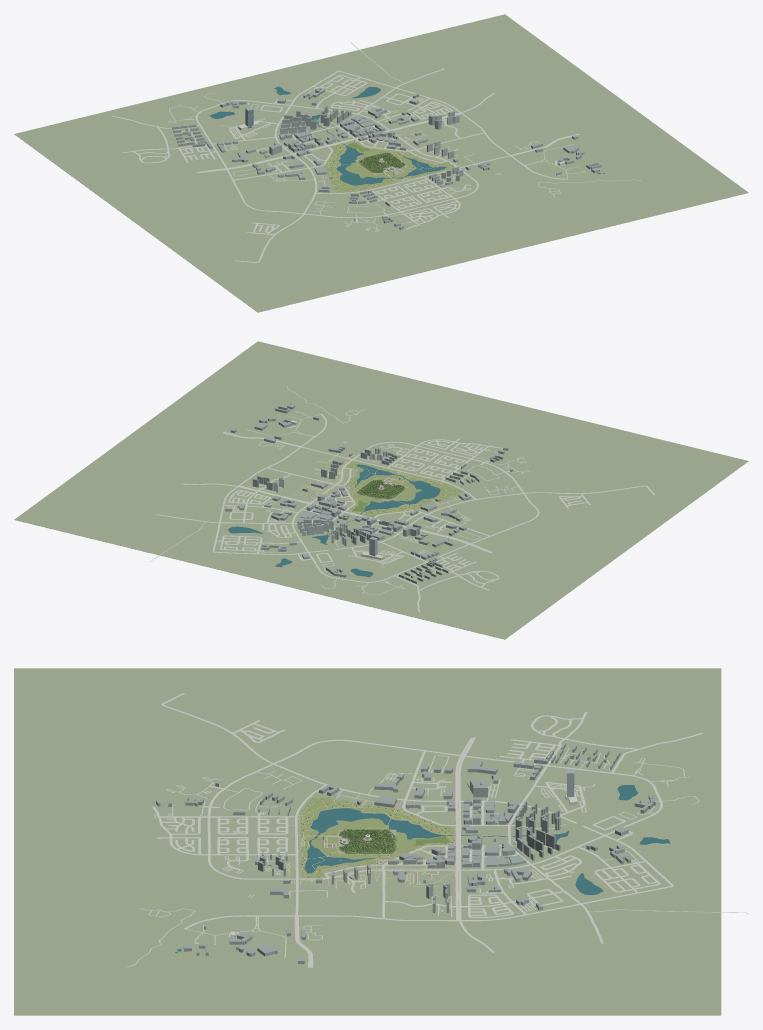
Rendered from bitgaram-overview.glb.
The picture shows the model from 3 angles, top to bottom: view 1: azimuth 30°, elevation 25°; view 2: azimuth 150°, elevation 25°; view 3: azimuth 270°, elevation 25°; orthographic projection. The views are drawn at different scales.
Visible parts, largest first — view 1: ground, surrounding_park_lawn, surrounding_mapped_paths, lake_334275809, estimated_hill; view 2: ground, surrounding_park_lawn, surrounding_mapped_paths, lake_334275809; view 3: ground, surrounding_park_lawn, surrounding_mapped_paths, lake_334275809, estimated_hill, lake_534052766.
Boxes of the visible parts, bbox=[...] form: ground: bbox=[14, 14, 748, 312]; surrounding_park_lawn: bbox=[324, 141, 454, 192]; surrounding_mapped_paths: bbox=[309, 128, 467, 197]; lake_334275809: bbox=[336, 146, 385, 185]; estimated_hill: bbox=[355, 152, 407, 174]; ground: bbox=[14, 341, 748, 639]; surrounding_park_lawn: bbox=[346, 461, 462, 516]; surrounding_mapped_paths: bbox=[292, 455, 463, 514]; lake_334275809: bbox=[363, 481, 440, 511]; ground: bbox=[14, 668, 721, 1015]; surrounding_park_lawn: bbox=[300, 797, 453, 877]; surrounding_mapped_paths: bbox=[279, 797, 455, 886]; lake_334275809: bbox=[310, 808, 443, 839]; estimated_hill: bbox=[339, 829, 396, 853]; lake_534052766: bbox=[304, 833, 374, 873].
Size of the model in its own units: 4300 by 155 by 3846.
